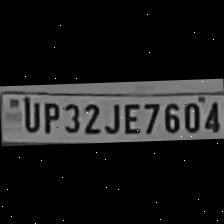0: (178, 98, 200, 133)
2: (79, 98, 101, 134)
3: (60, 99, 80, 134)
4: (199, 98, 221, 134)
6: (158, 99, 180, 134)
7: (140, 98, 158, 134)
E: (120, 100, 140, 136)
J: (100, 99, 119, 135)
P: (38, 98, 60, 134)
U: (19, 98, 40, 132)
